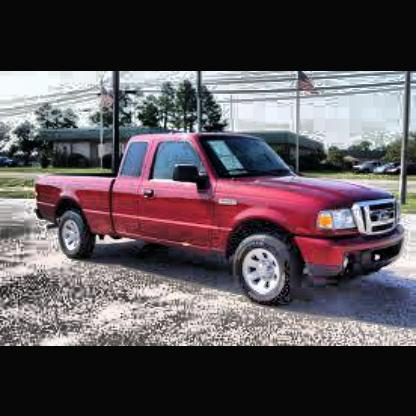Ford Ranger SuperCab 2011: (37, 132, 407, 308)
